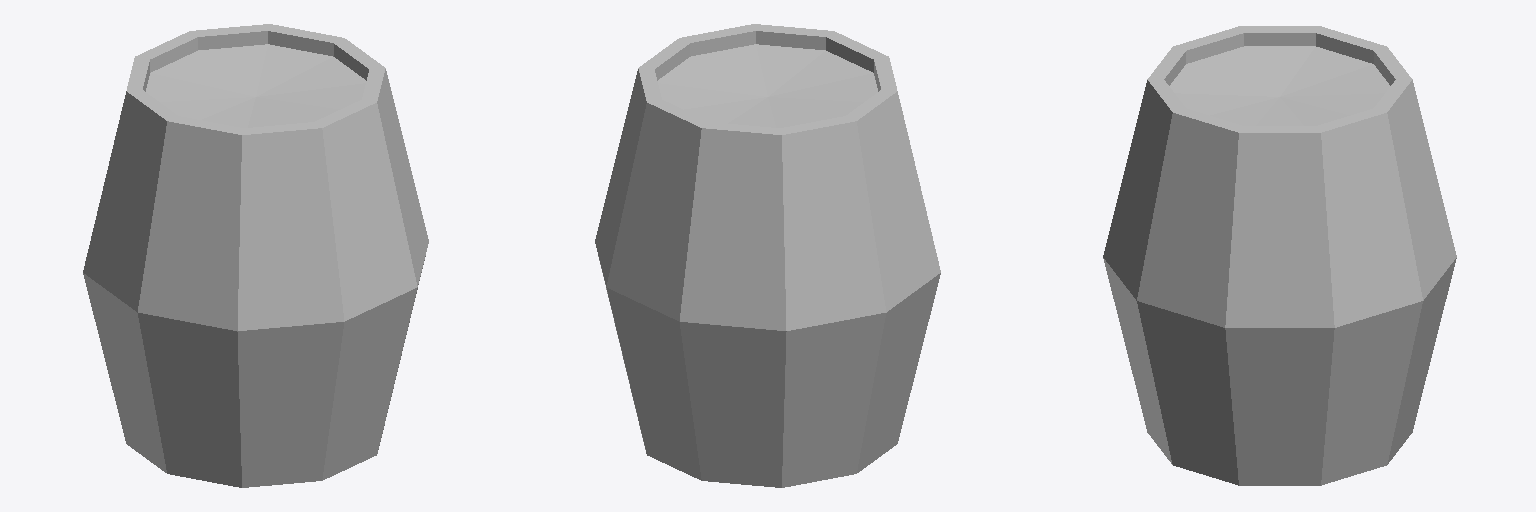
The model's file is barrel.bu.obj.
3 renders of one model, left to right at view 1: azimuth 30°, elevation 25°; view 2: azimuth 150°, elevation 25°; view 3: azimuth 270°, elevation 25°, orthographic.
Parts seen in each view (by area): view 1: Cylinder; view 2: Cylinder; view 3: Cylinder.
Part boxes in pixels (x1,y1,x2,y2): Cylinder: (83,24,428,487); Cylinder: (595,24,940,487); Cylinder: (1103,26,1456,485).
Size of the model in its own units: 0.865 by 1 by 0.9095.